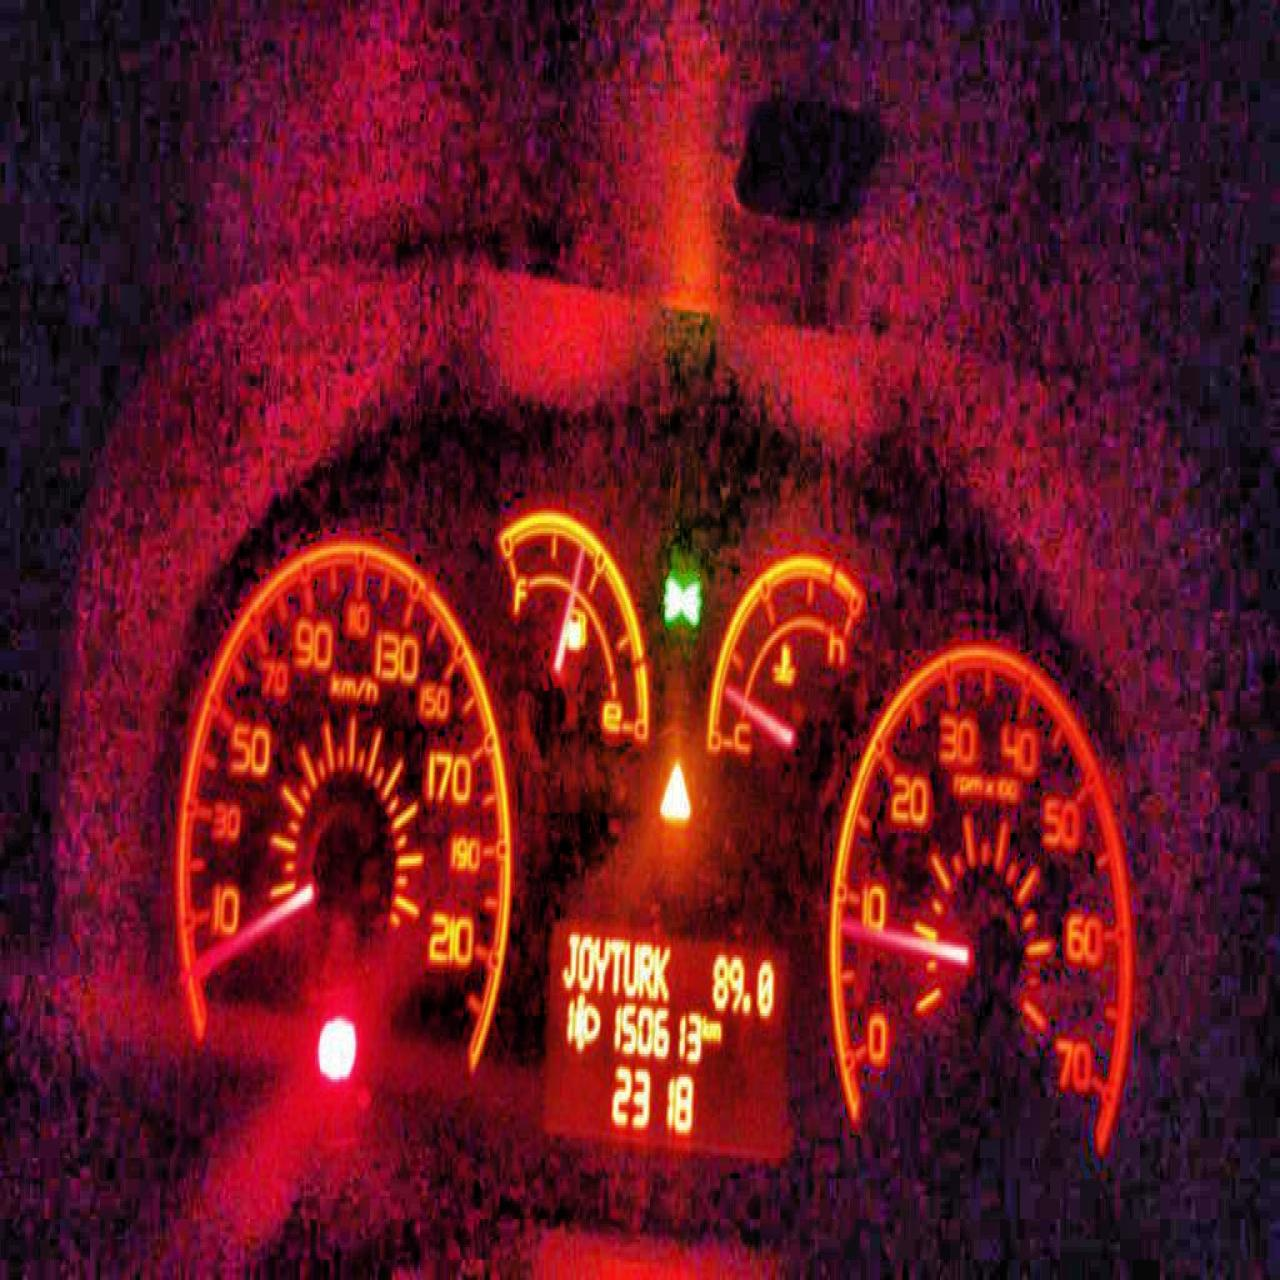-: (741, 990, 750, 1014)
0: (754, 955, 775, 1019), (636, 1001, 653, 1056)
1: (610, 998, 620, 1049), (663, 1074, 673, 1130), (676, 1006, 685, 1060), (564, 993, 572, 1044)
2: (610, 1062, 629, 1128)
3: (631, 1064, 651, 1128), (685, 1008, 700, 1062)
5: (621, 998, 636, 1054)
6: (654, 1003, 670, 1058)
8: (709, 947, 729, 1010), (674, 1071, 693, 1132)
9: (729, 949, 742, 1013)
X: (652, 942, 669, 1003), (592, 932, 608, 993), (560, 927, 576, 990), (622, 938, 638, 995), (608, 934, 622, 995), (578, 932, 592, 990), (639, 940, 653, 999), (700, 1010, 709, 1041), (709, 1019, 721, 1042)
odometer: (533, 904, 796, 1166)
